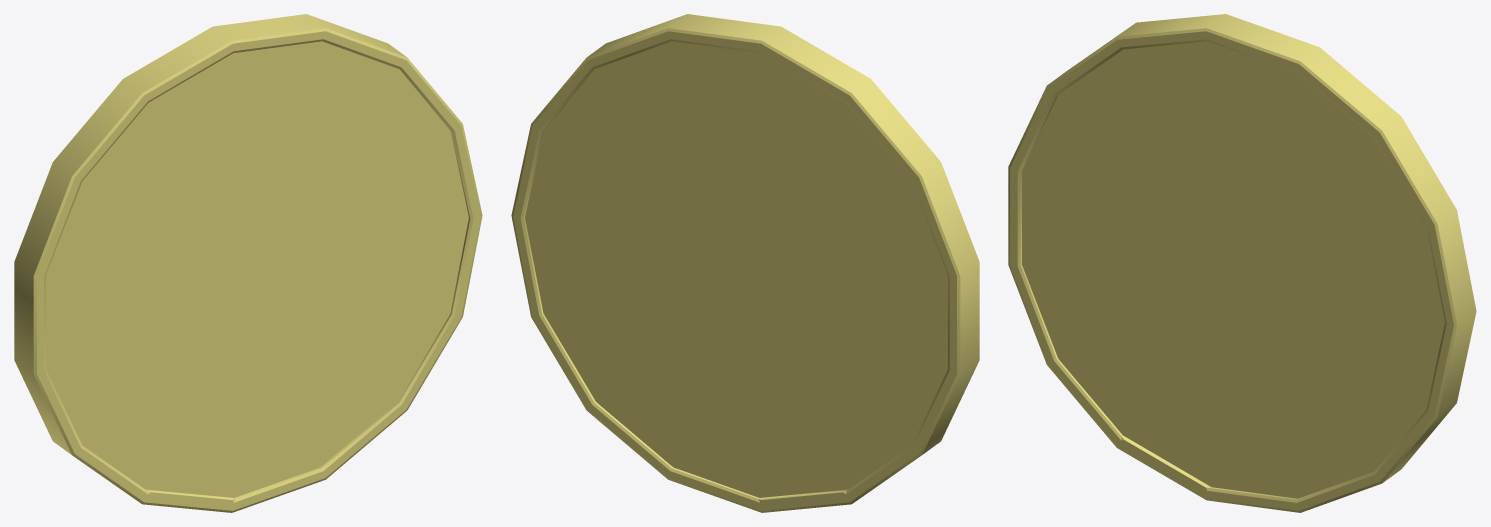
Rendered from coin.fbx.
3 renders of one model, left to right at view 1: azimuth 30°, elevation 25°; view 2: azimuth 150°, elevation 25°; view 3: azimuth 330°, elevation 25°, orthographic.
Parts seen in each view (by area): view 1: pCylinder1; view 2: pCylinder1; view 3: pCylinder1.
Boxes of the visible parts, <box> form: pCylinder1: <box>14,14,482,512</box>; pCylinder1: <box>511,14,979,512</box>; pCylinder1: <box>1008,14,1476,512</box>.
Bounding box in the file's own units: 32.86 × 33.04 × 2.63.
